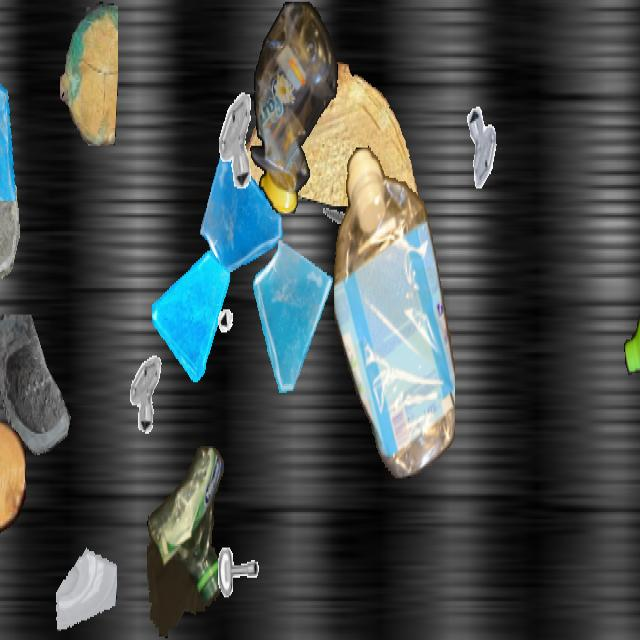glass: (247, 236, 339, 400), (0, 314, 83, 482), (199, 135, 287, 292), (152, 244, 230, 382), (55, 526, 117, 636), (0, 149, 23, 281), (0, 71, 21, 199)
metal: (205, 89, 263, 192), (212, 539, 268, 638), (460, 101, 508, 187), (119, 348, 167, 434), (318, 185, 362, 263), (215, 277, 253, 345)
plastic: (334, 144, 454, 478), (249, 2, 339, 212), (147, 443, 225, 638), (624, 255, 640, 390)
wood: (243, 62, 429, 204), (60, 2, 118, 144), (0, 421, 25, 535)
